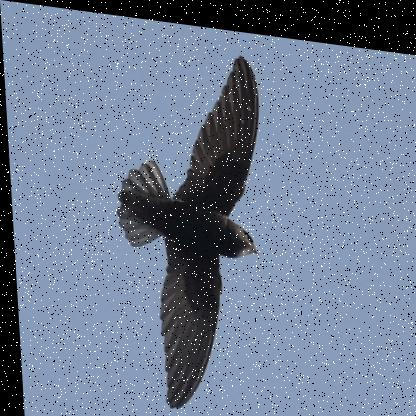Burung: (105, 35, 272, 415)
